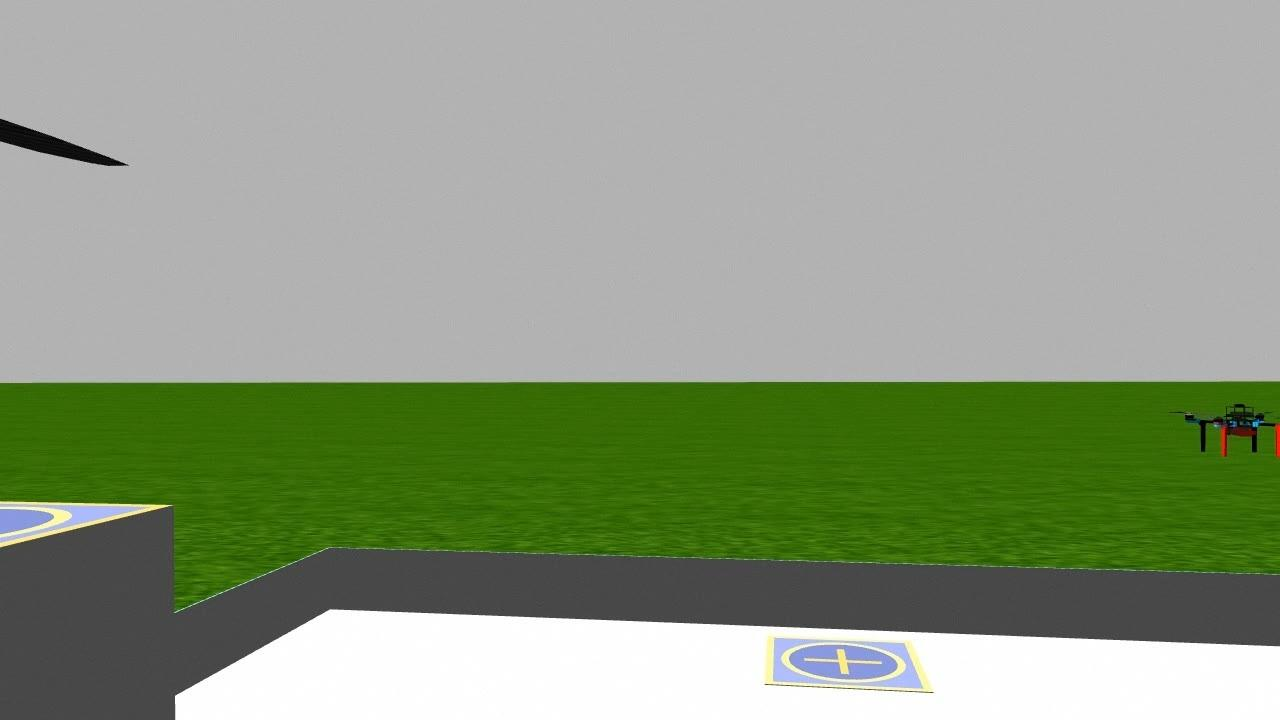UAV: (1172, 392, 1280, 464)
